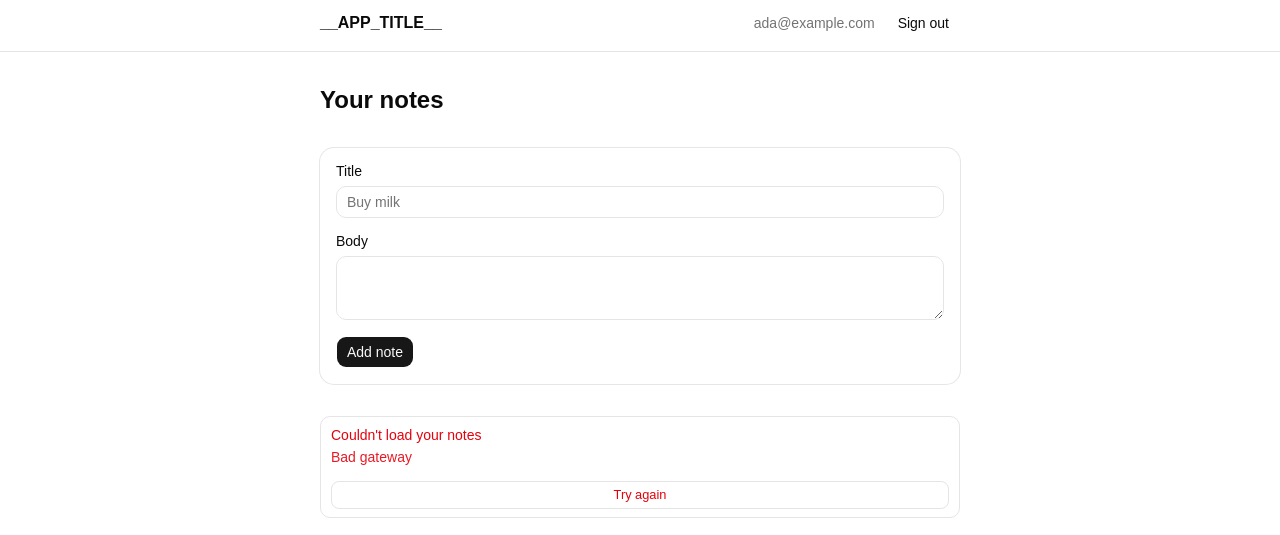
Test: notes page (list + create against the API) › shows the error state when loading fails, and recovers on retry
Expected: the message with test id "notes-error" shows "Bad gateway", [331,449,412,465]
Click the button "Try again" at (640,495), box [331,481,949,509]
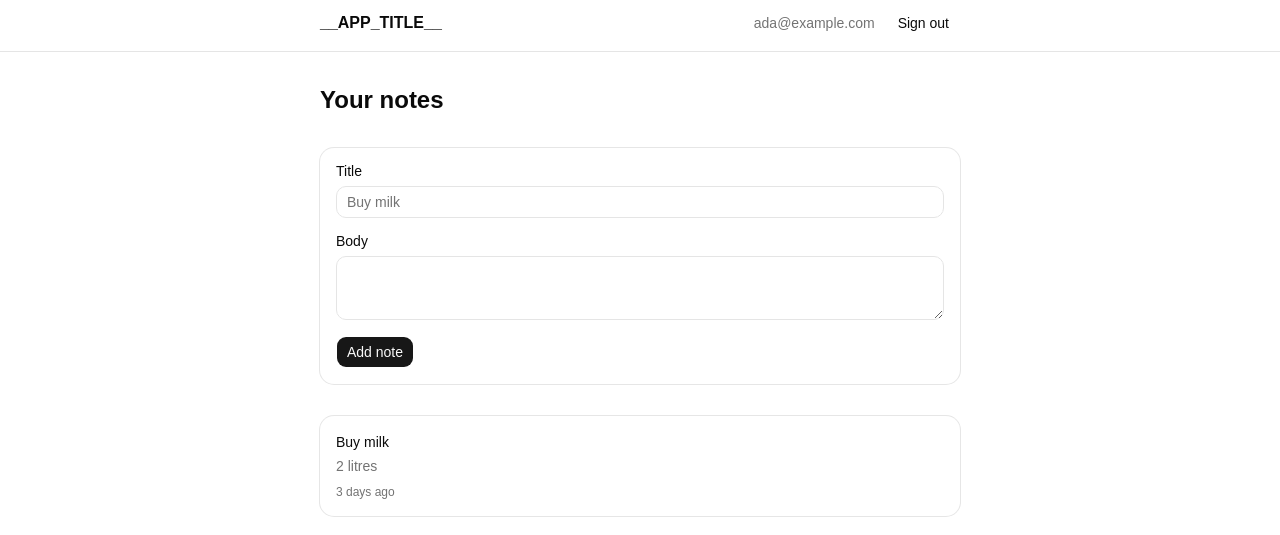
Expected: the heading "Buy milk" is shown, [336,434,389,450]
